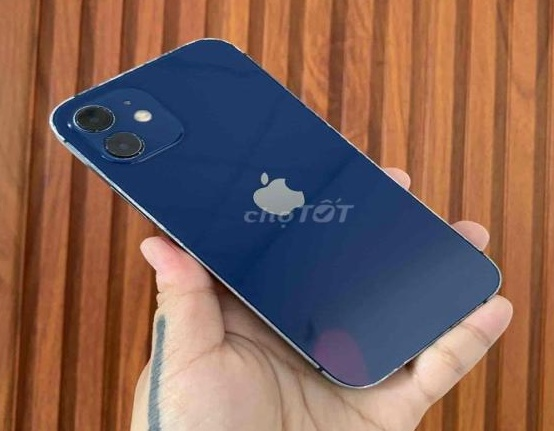scratch: (209, 39, 403, 184), (340, 290, 496, 382), (52, 44, 204, 124), (79, 102, 160, 165)
